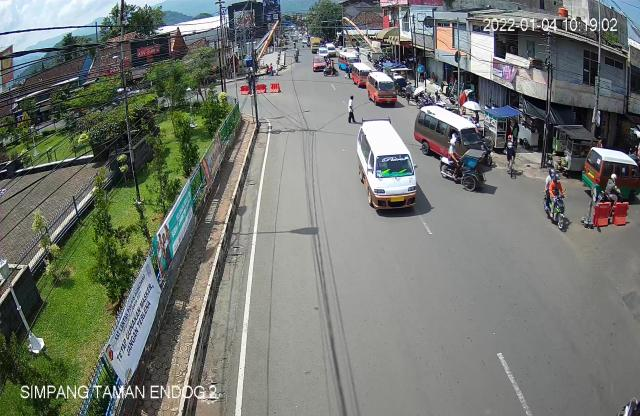Becak: (441, 138, 491, 194)
Mobil: (355, 116, 424, 223), (417, 104, 488, 170), (580, 144, 640, 202), (364, 66, 400, 111)
Motor: (542, 164, 573, 235)
